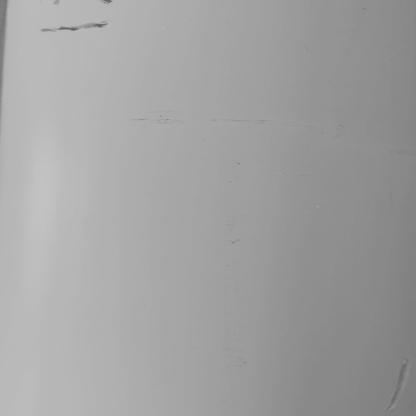fengxi: (36, 19, 116, 37)
sunshang: (383, 356, 407, 413)
